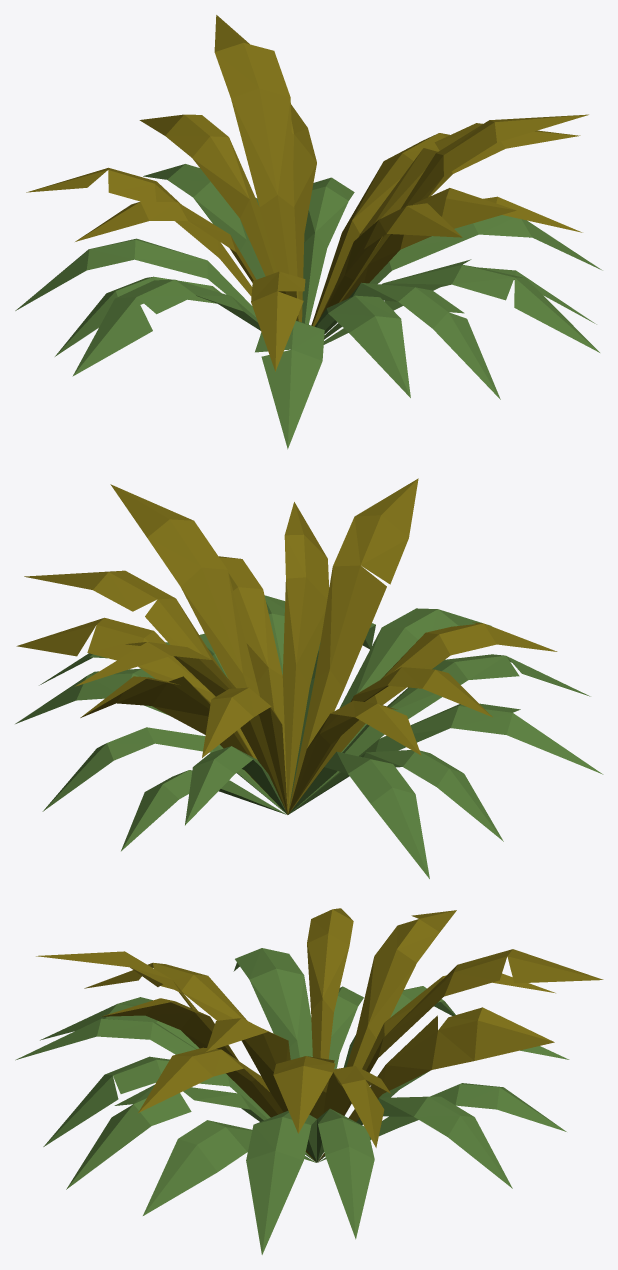
File: Plant_4.fbx
3 renders of one model, top to bottom at view 1: azimuth 30°, elevation 25°; view 2: azimuth 150°, elevation 25°; view 3: azimuth 270°, elevation 25°, orthographic. The views are drawn at different scales.
Visible parts, largest first — view 1: Plant_4; view 2: Plant_4; view 3: Plant_4.
Boxes of the visible parts, x1,y1,x2,y2 form: Plant_4: [15, 15, 602, 449]; Plant_4: [15, 478, 603, 878]; Plant_4: [15, 908, 603, 1254].
Size of the model in its own units: 1.47 by 0.5986 by 1.42.
